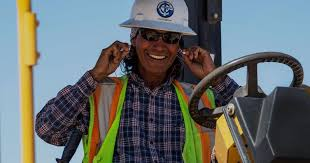hard hat: (117, 1, 198, 36)
high-vis: (81, 71, 216, 163)
